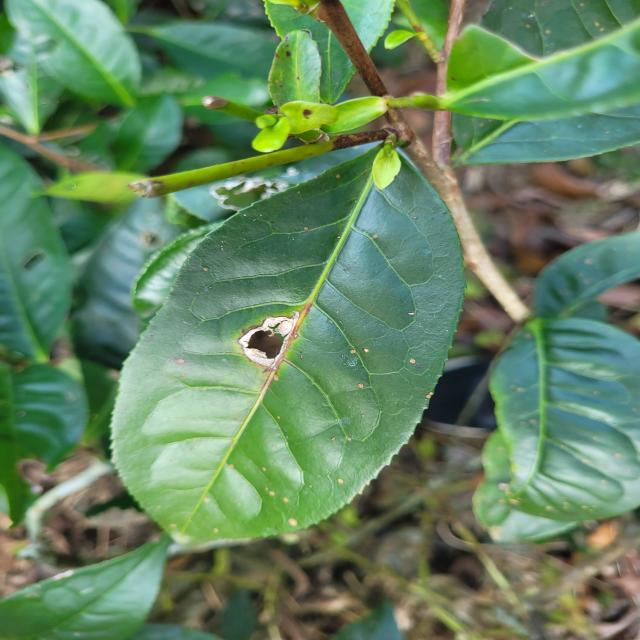Category D(7+ days, Not for Tea): (106, 124, 478, 560)
